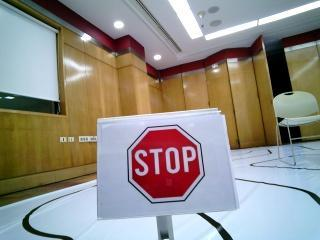stop: (95, 117, 222, 216)
